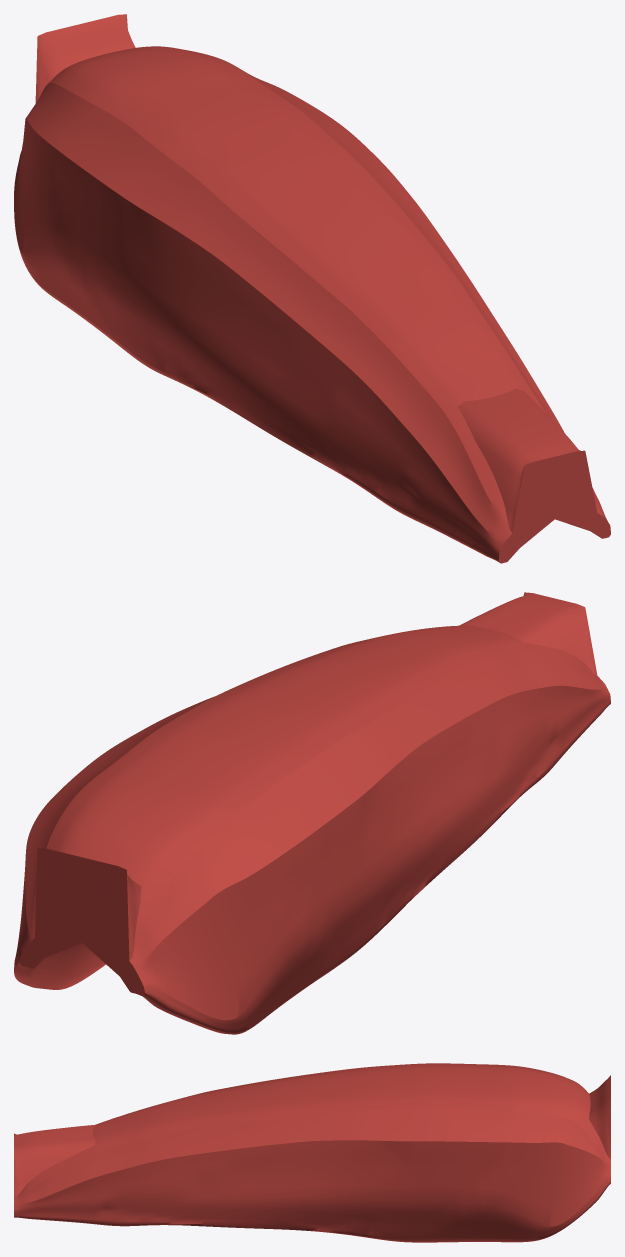
Rendered from bobber_2.glb.
3 views of the same model, one above another, from view 1: azimuth 30°, elevation 25°; view 2: azimuth 150°, elevation 25°; view 3: azimuth 270°, elevation 25° (orthographic). The views are drawn at different scales.
Parts seen in each view (by area): view 1: lod0; view 2: lod0; view 3: lod0.
Boxes of the visible parts, left/top/right/bottom form: lod0: left=14, top=14, right=610, bottom=563; lod0: left=14, top=592, right=610, bottom=1034; lod0: left=14, top=1063, right=610, bottom=1242.
Size of what is drawn, in the model's own units: 0.3168 by 0.2607 by 1.06.
